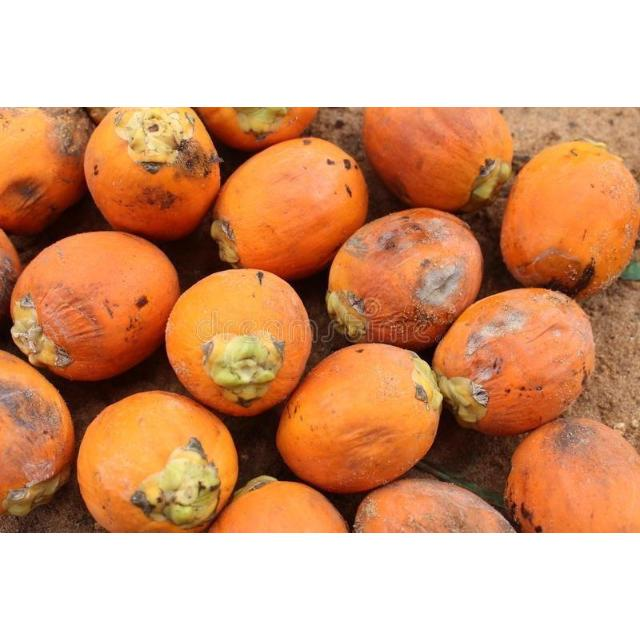good: (10, 231, 176, 379), (277, 344, 443, 490), (432, 288, 594, 434), (324, 209, 482, 349), (212, 138, 366, 280), (502, 142, 638, 298), (163, 268, 307, 414), (85, 108, 221, 240), (364, 109, 512, 215), (506, 416, 638, 532), (1, 351, 75, 519), (1, 108, 94, 236), (352, 478, 520, 532), (204, 478, 350, 532), (192, 108, 318, 150), (1, 222, 22, 332), (230, 474, 278, 502), (83, 108, 127, 126)
